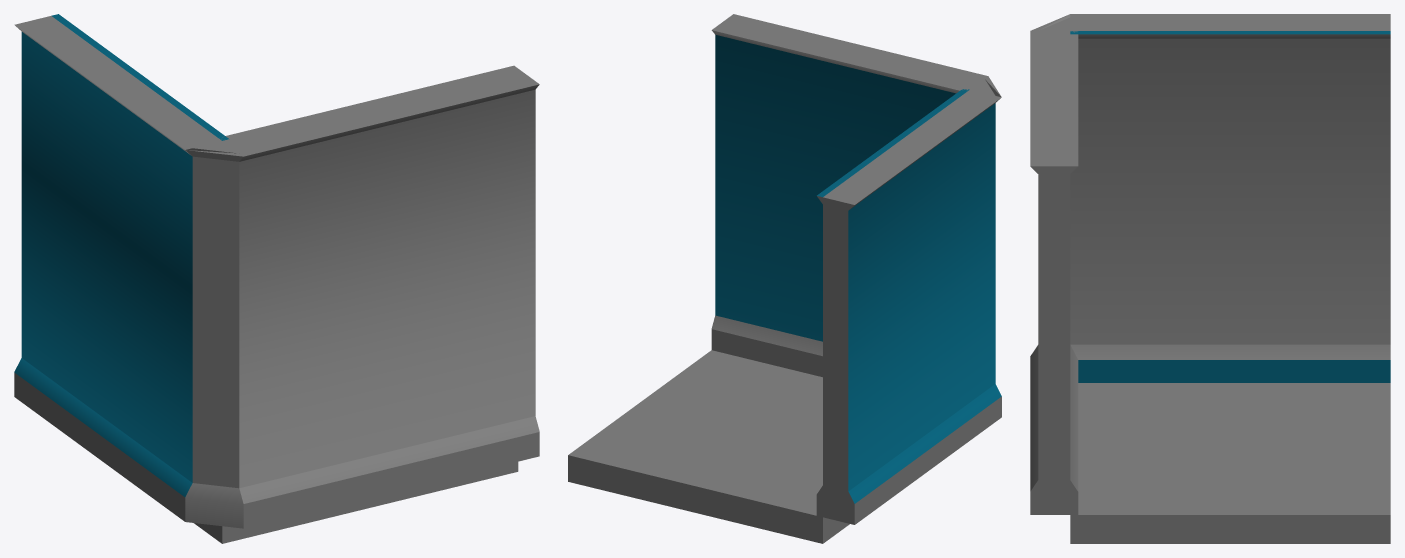
The picture shows the model from 3 angles, left to right: view 1: azimuth 30°, elevation 25°; view 2: azimuth 150°, elevation 25°; view 3: azimuth 270°, elevation 25°; orthographic projection. The views are drawn at different scales.
Visible parts, largest first — view 1: ModularCorner; view 2: ModularCorner; view 3: ModularCorner.
Boxes of the visible parts, left/top/right/bottom form: ModularCorner: left=14, top=14, right=539, bottom=543; ModularCorner: left=568, top=14, right=1001, bottom=543; ModularCorner: left=1030, top=14, right=1390, bottom=543.
Size of the model in its own units: 113 by 130 by 113.
